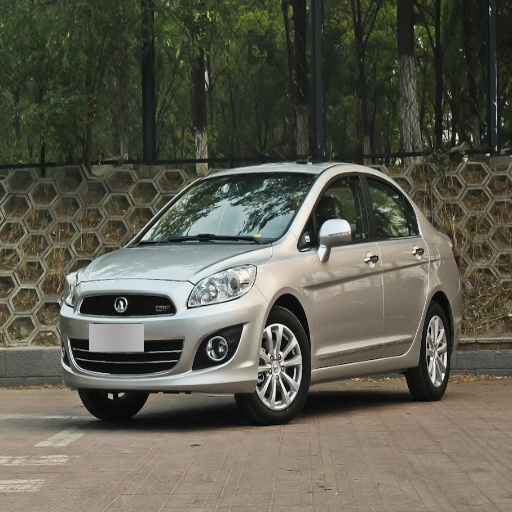front_bumper: (60, 280, 270, 392)
front_glass: (131, 173, 315, 246)
front_left_door: (302, 170, 382, 366)
